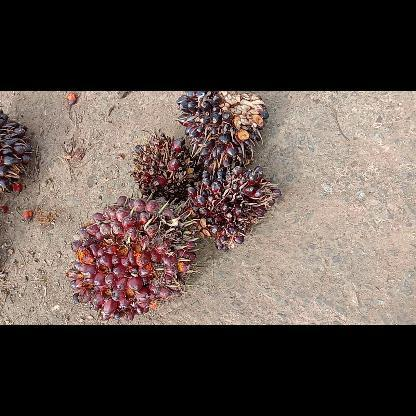TBS abnormal: (188, 158, 278, 252), (176, 91, 266, 167), (131, 133, 193, 199)
TBS masak: (66, 196, 198, 322)
